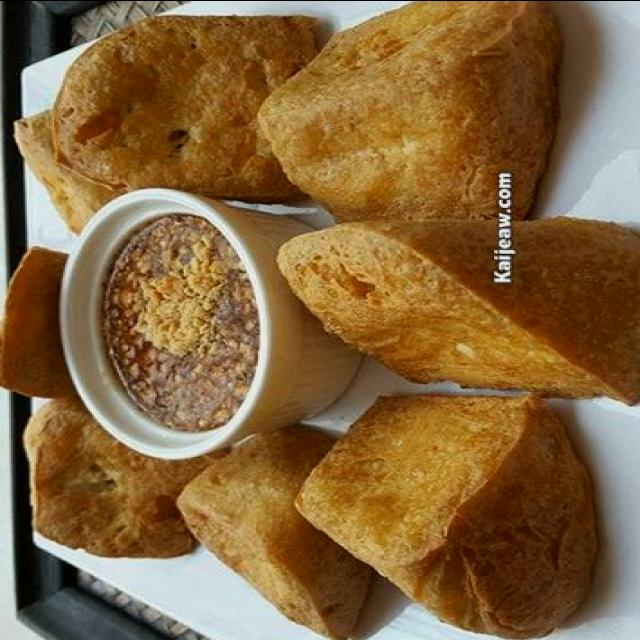tahu goreng: (296, 392, 602, 640), (14, 12, 335, 233), (256, 0, 566, 225), (177, 422, 389, 640)
